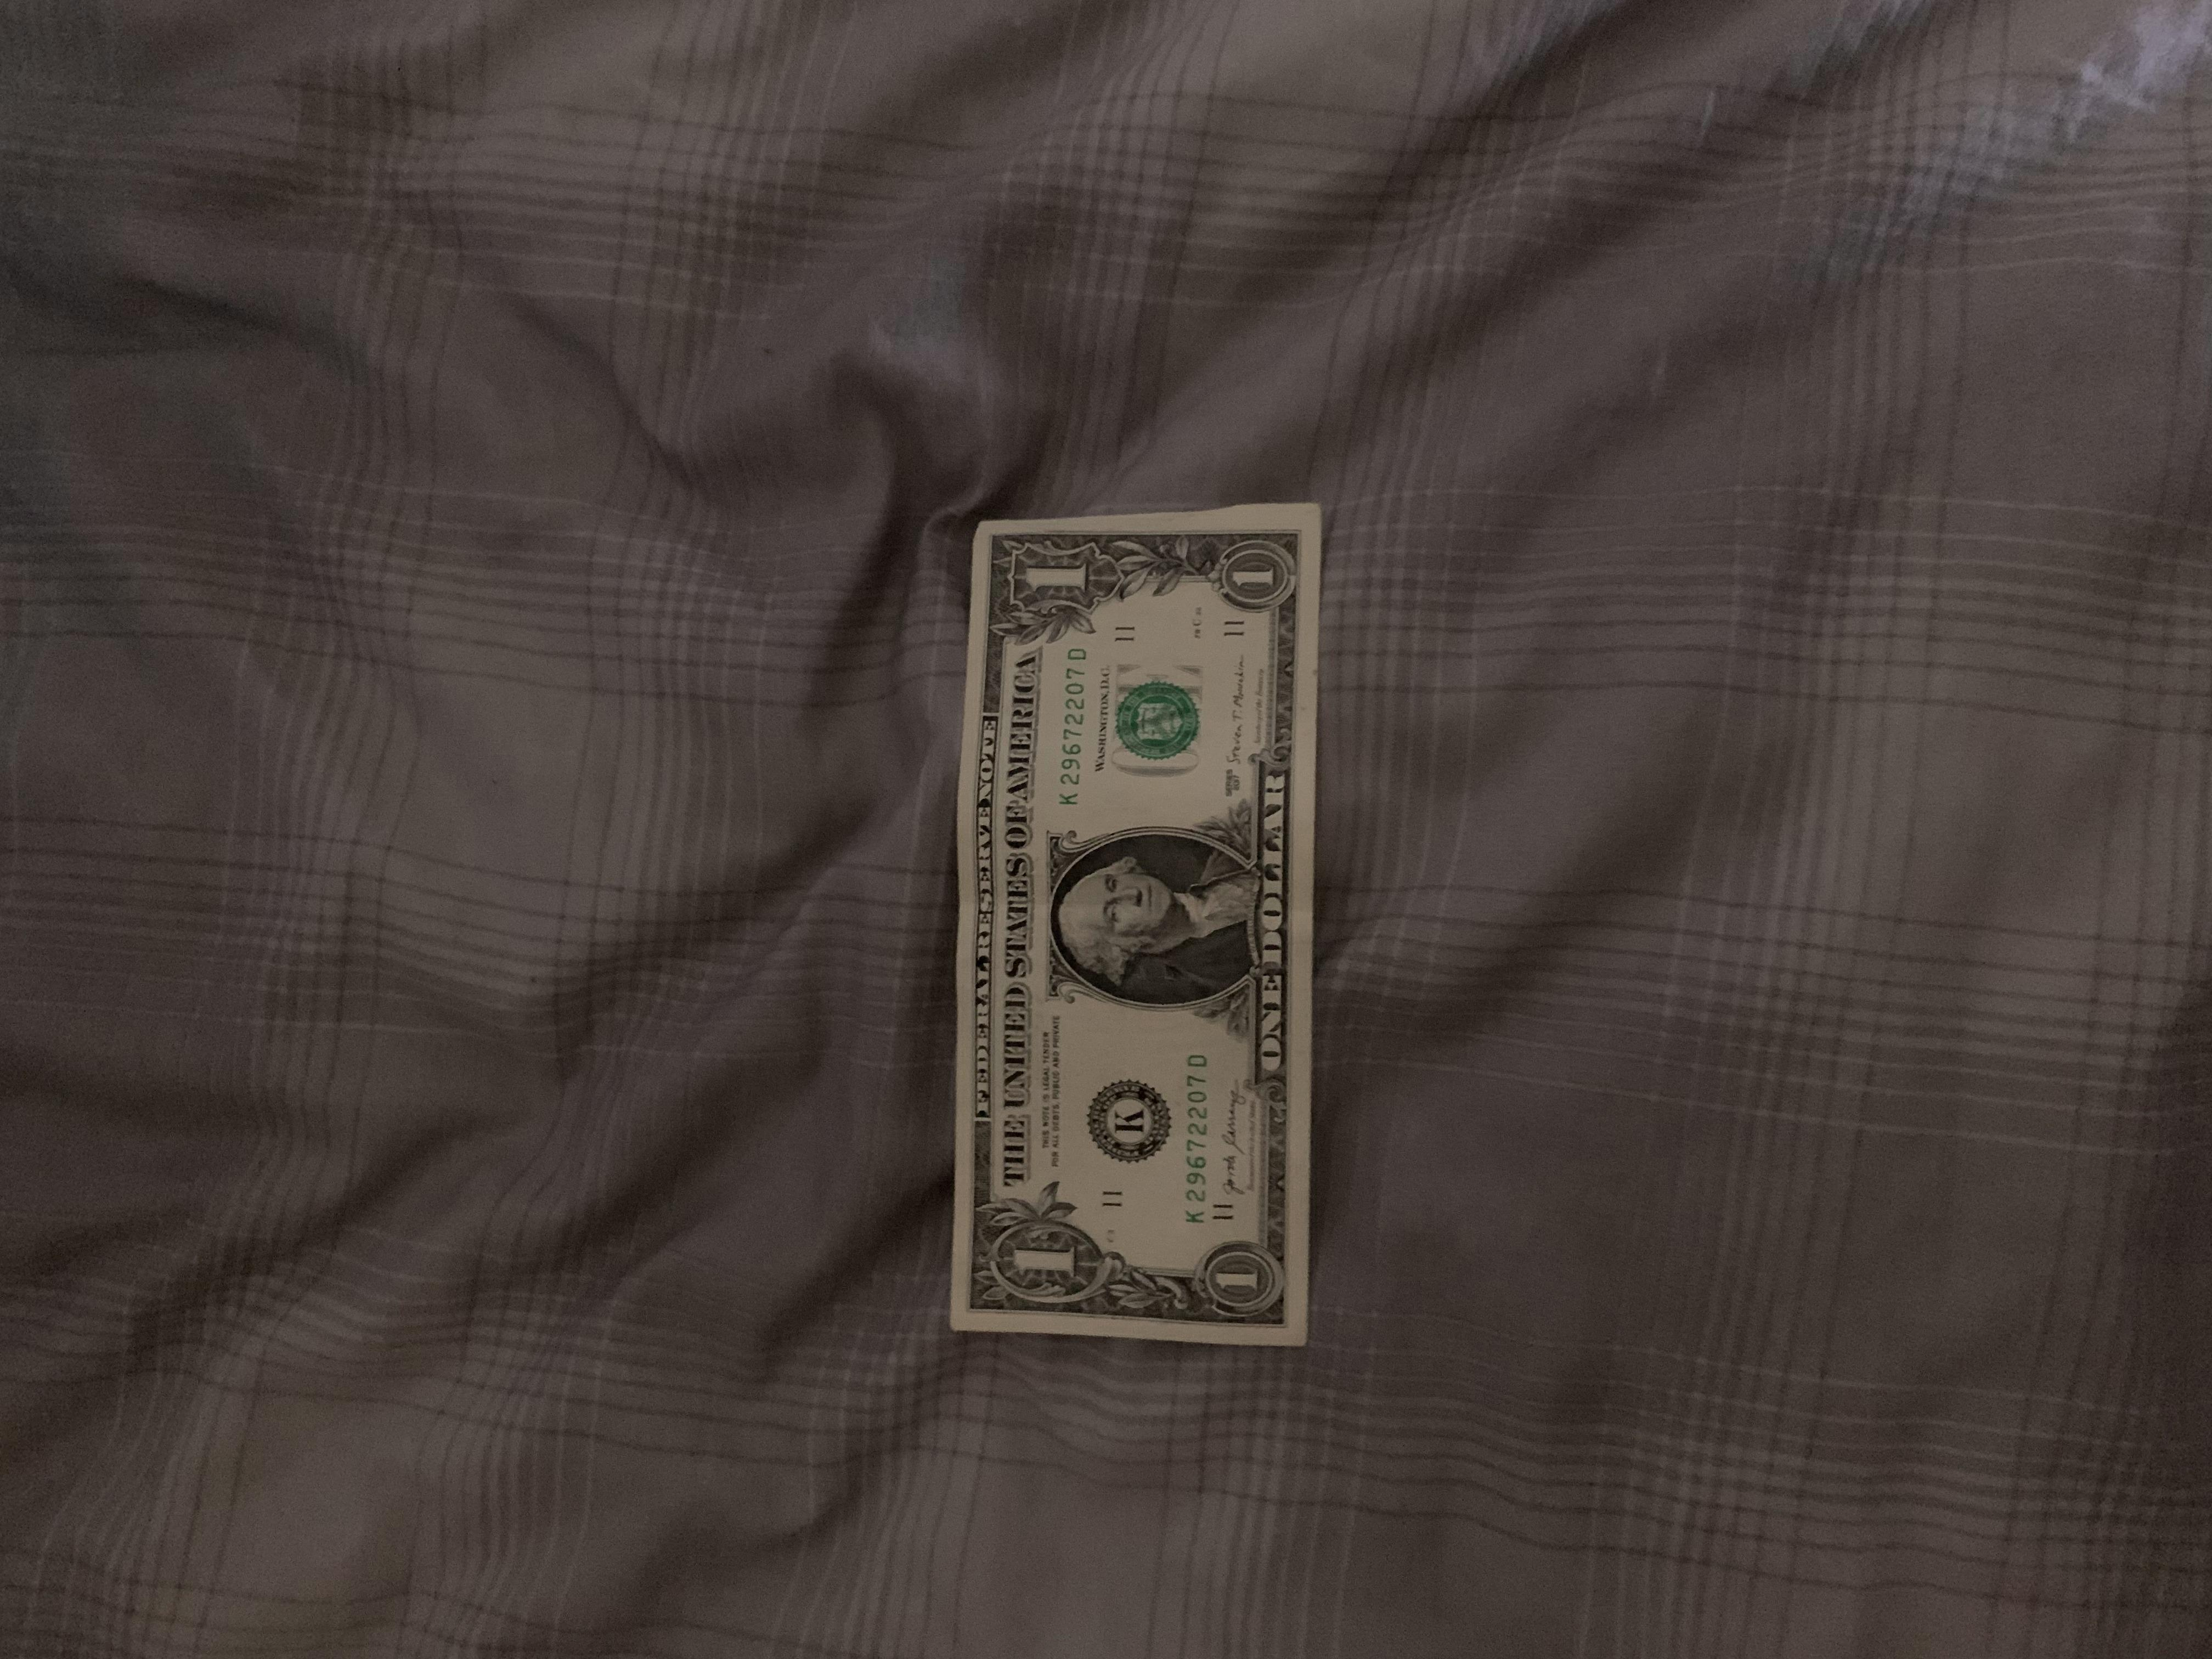OneBill: (956, 509, 1334, 1351)
